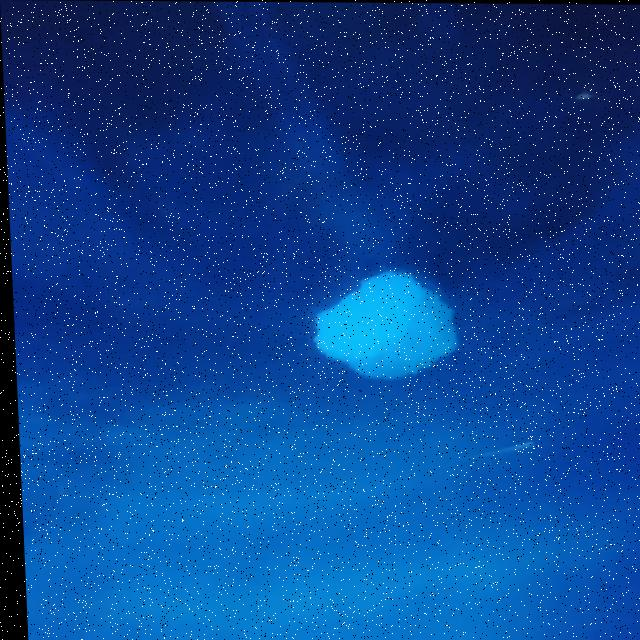litter: (301, 256, 466, 391)
